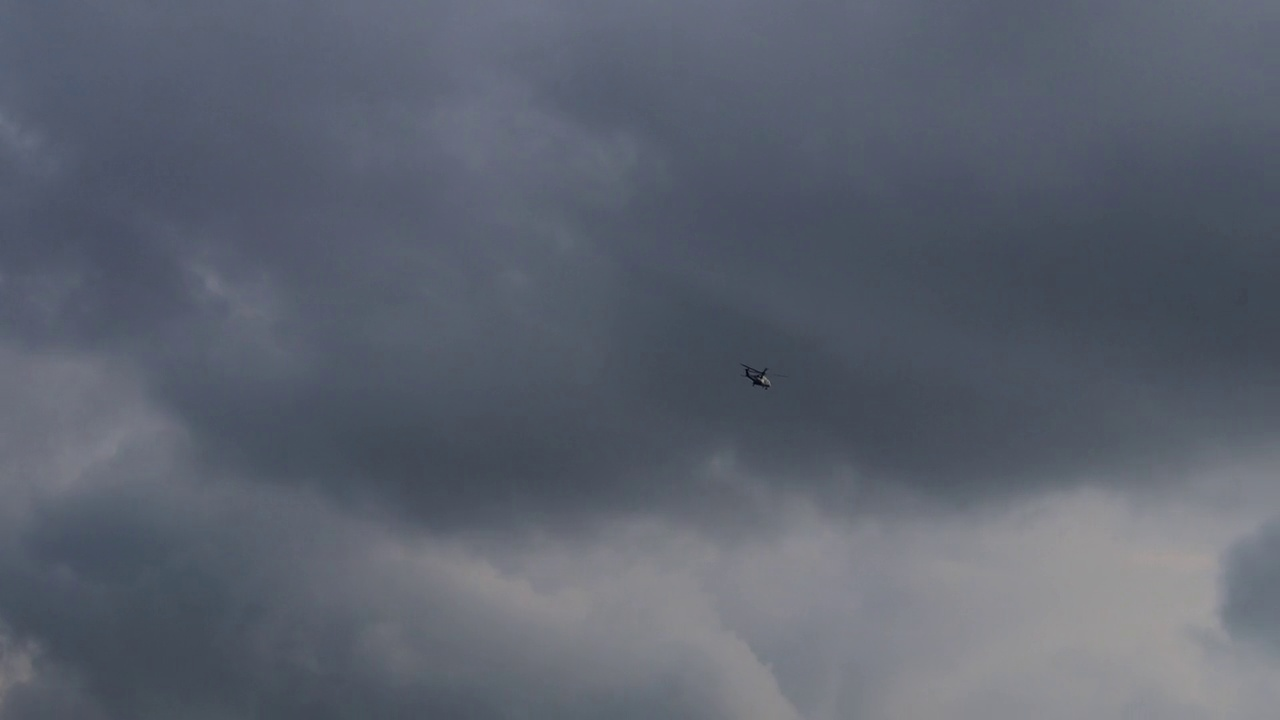heli: (740, 363, 789, 390)
